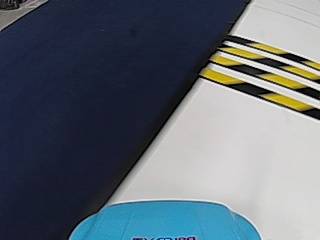bump: (223, 35, 312, 109)
